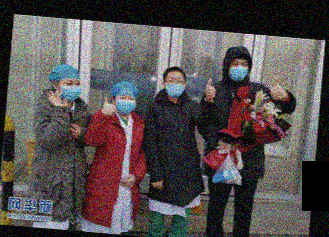with_mask: (57, 78, 82, 103), (114, 93, 137, 115), (165, 75, 185, 99), (229, 58, 250, 80)
